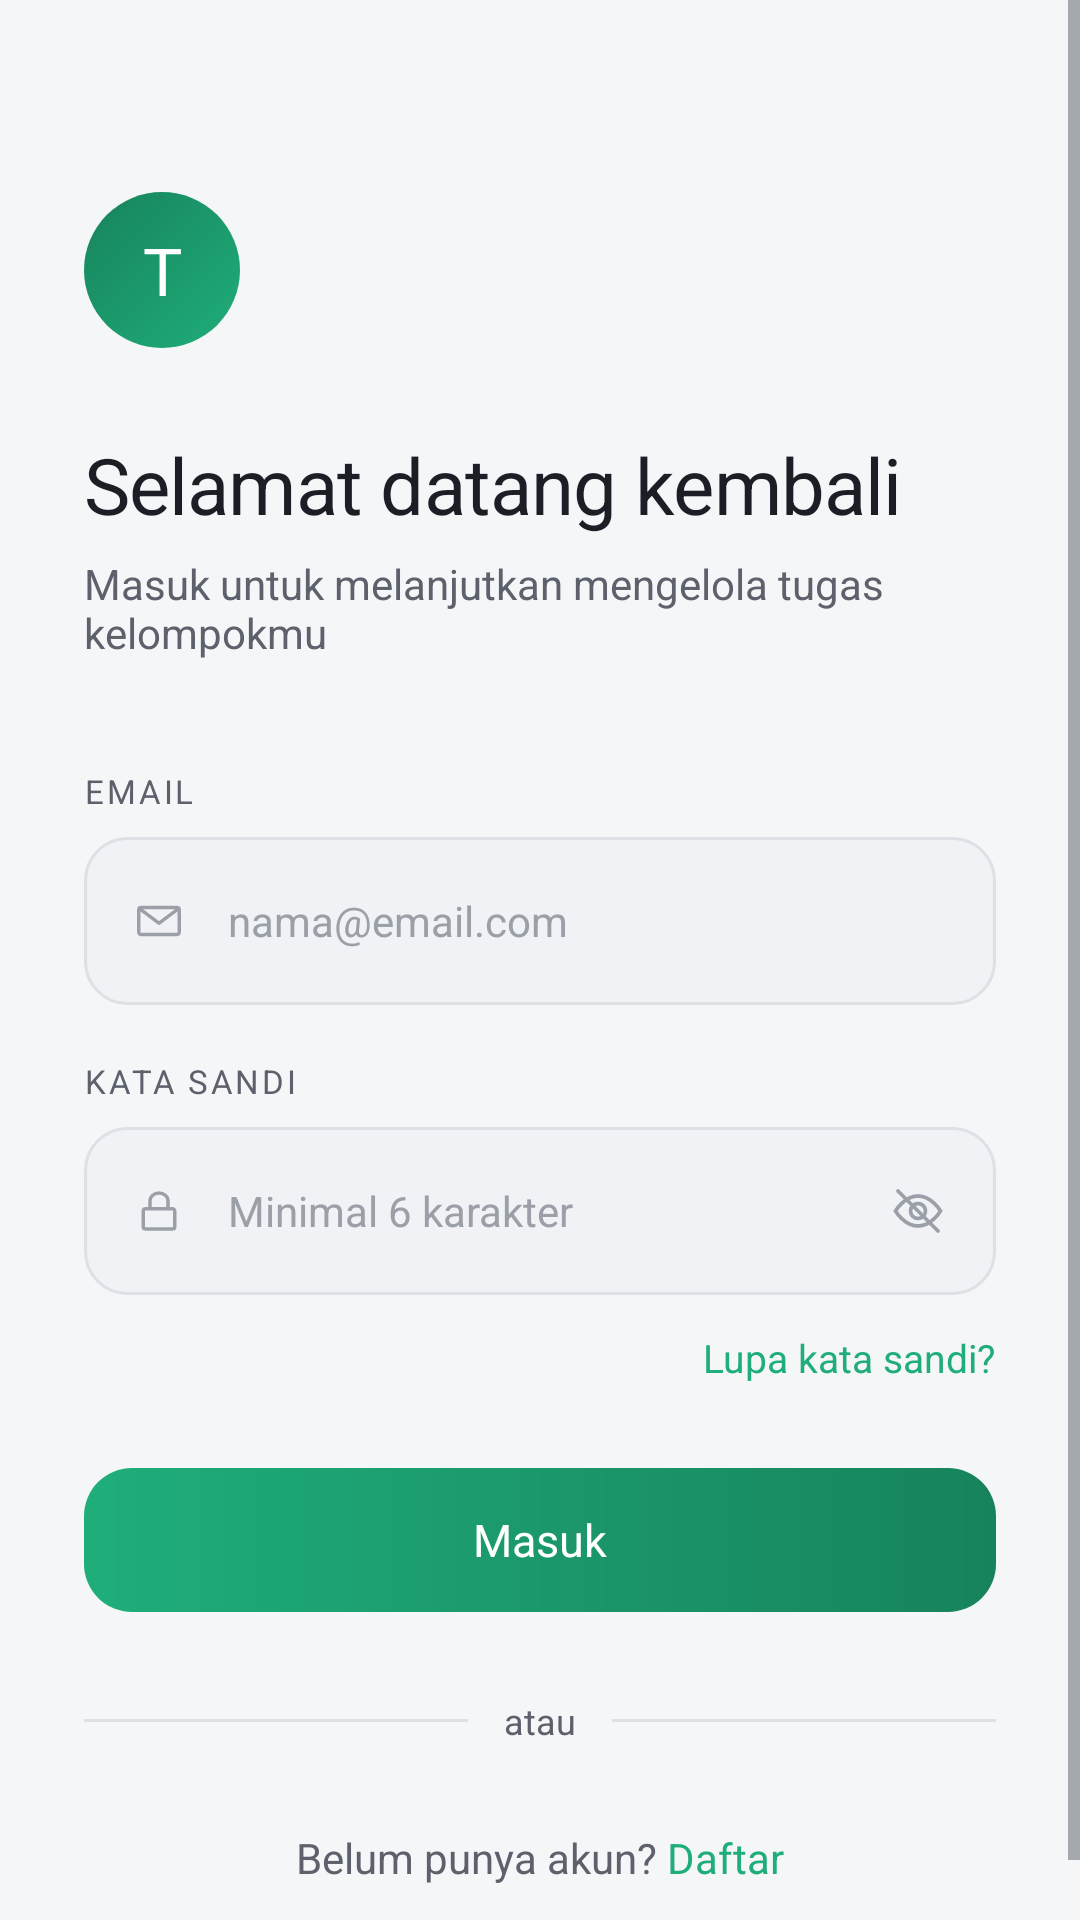

Screen size 1080×1920. Icon name, then its center in pixels as point (x, y):
lock: point (159, 1211)
Tampilkan kata sandi: point (918, 1211)
